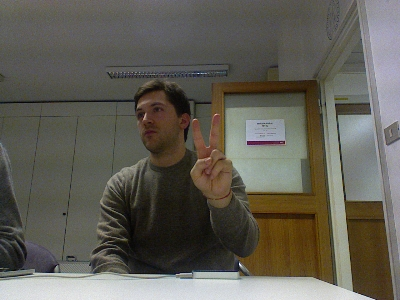剪刀: (189, 112, 232, 200)
